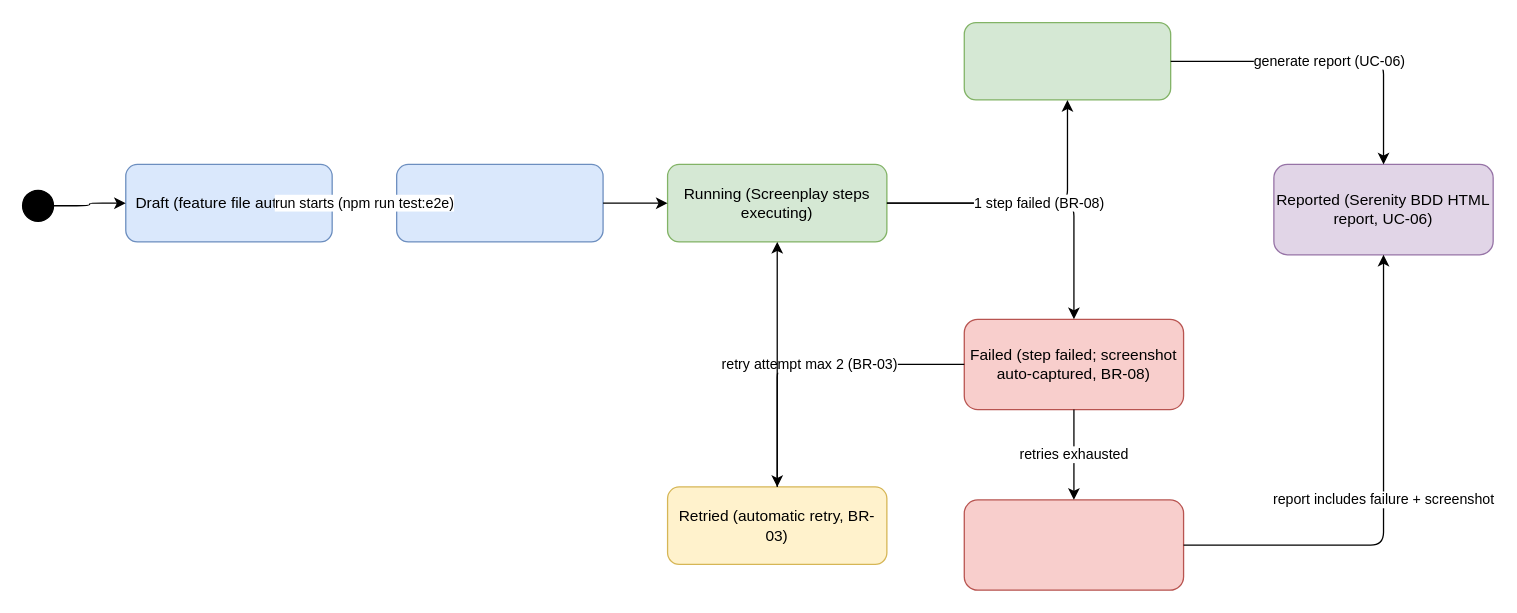
This 1517x613 diagram has some shape labels left out. The box of each missing label's shape, as (x1, y1, x2, y2) in pixels:
Defect Raised (retries exhausted; defect ticket created): (963, 499, 1184, 590)
Passed (all steps green): (963, 21, 1171, 100)
Queued (IDE session assigned): (395, 163, 603, 242)
